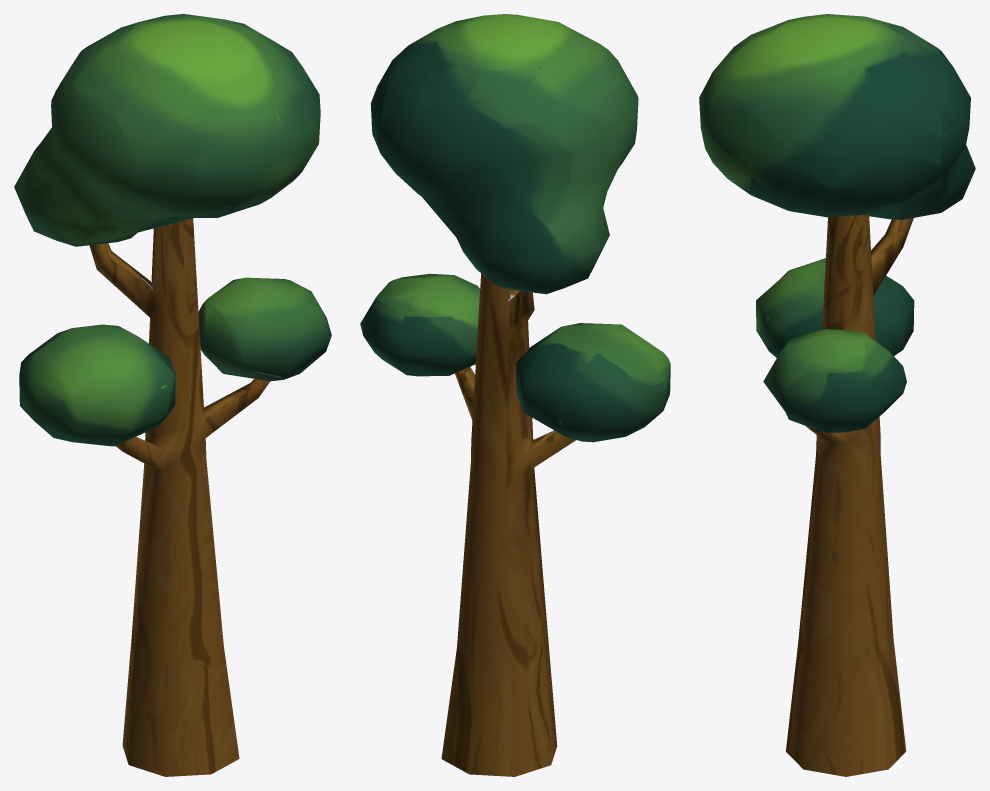
File: tree3.fbx
3 views of the same model, side by side, from view 1: azimuth 30°, elevation 25°; view 2: azimuth 150°, elevation 25°; view 3: azimuth 270°, elevation 25° (orthographic).
Parts seen in each view (by area): view 1: tree.003; view 2: tree.003; view 3: tree.003.
Part boxes in pixels (box(x1,y1,x2,y2)): tree.003: box(14, 14, 331, 776); tree.003: box(360, 14, 670, 776); tree.003: box(699, 14, 975, 776).
Size of the model in its own units: 707 by 1668 by 581.
